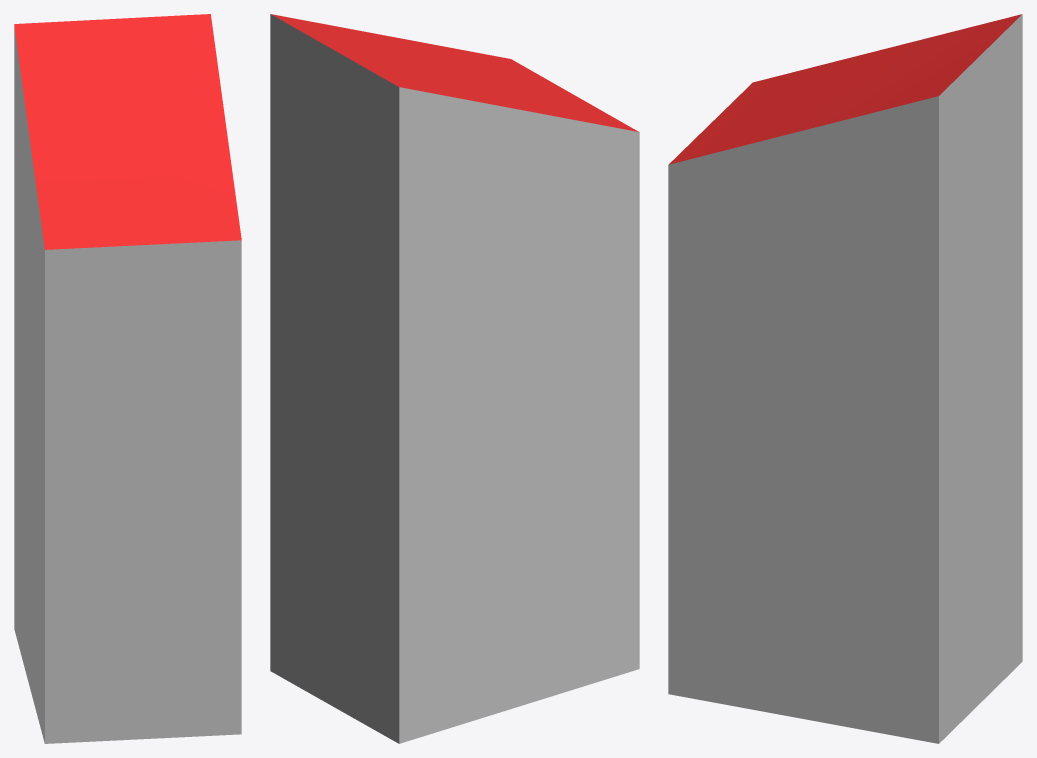
The model's file is DEBY_LOD2_4907200.dae.
The picture shows the model from 3 angles, left to right: view 1: azimuth 30°, elevation 25°; view 2: azimuth 150°, elevation 25°; view 3: azimuth 270°, elevation 25°; orthographic projection. The views are drawn at different scales.
Size of the model in its own units: 8.89 by 10.07 by 20.32.
